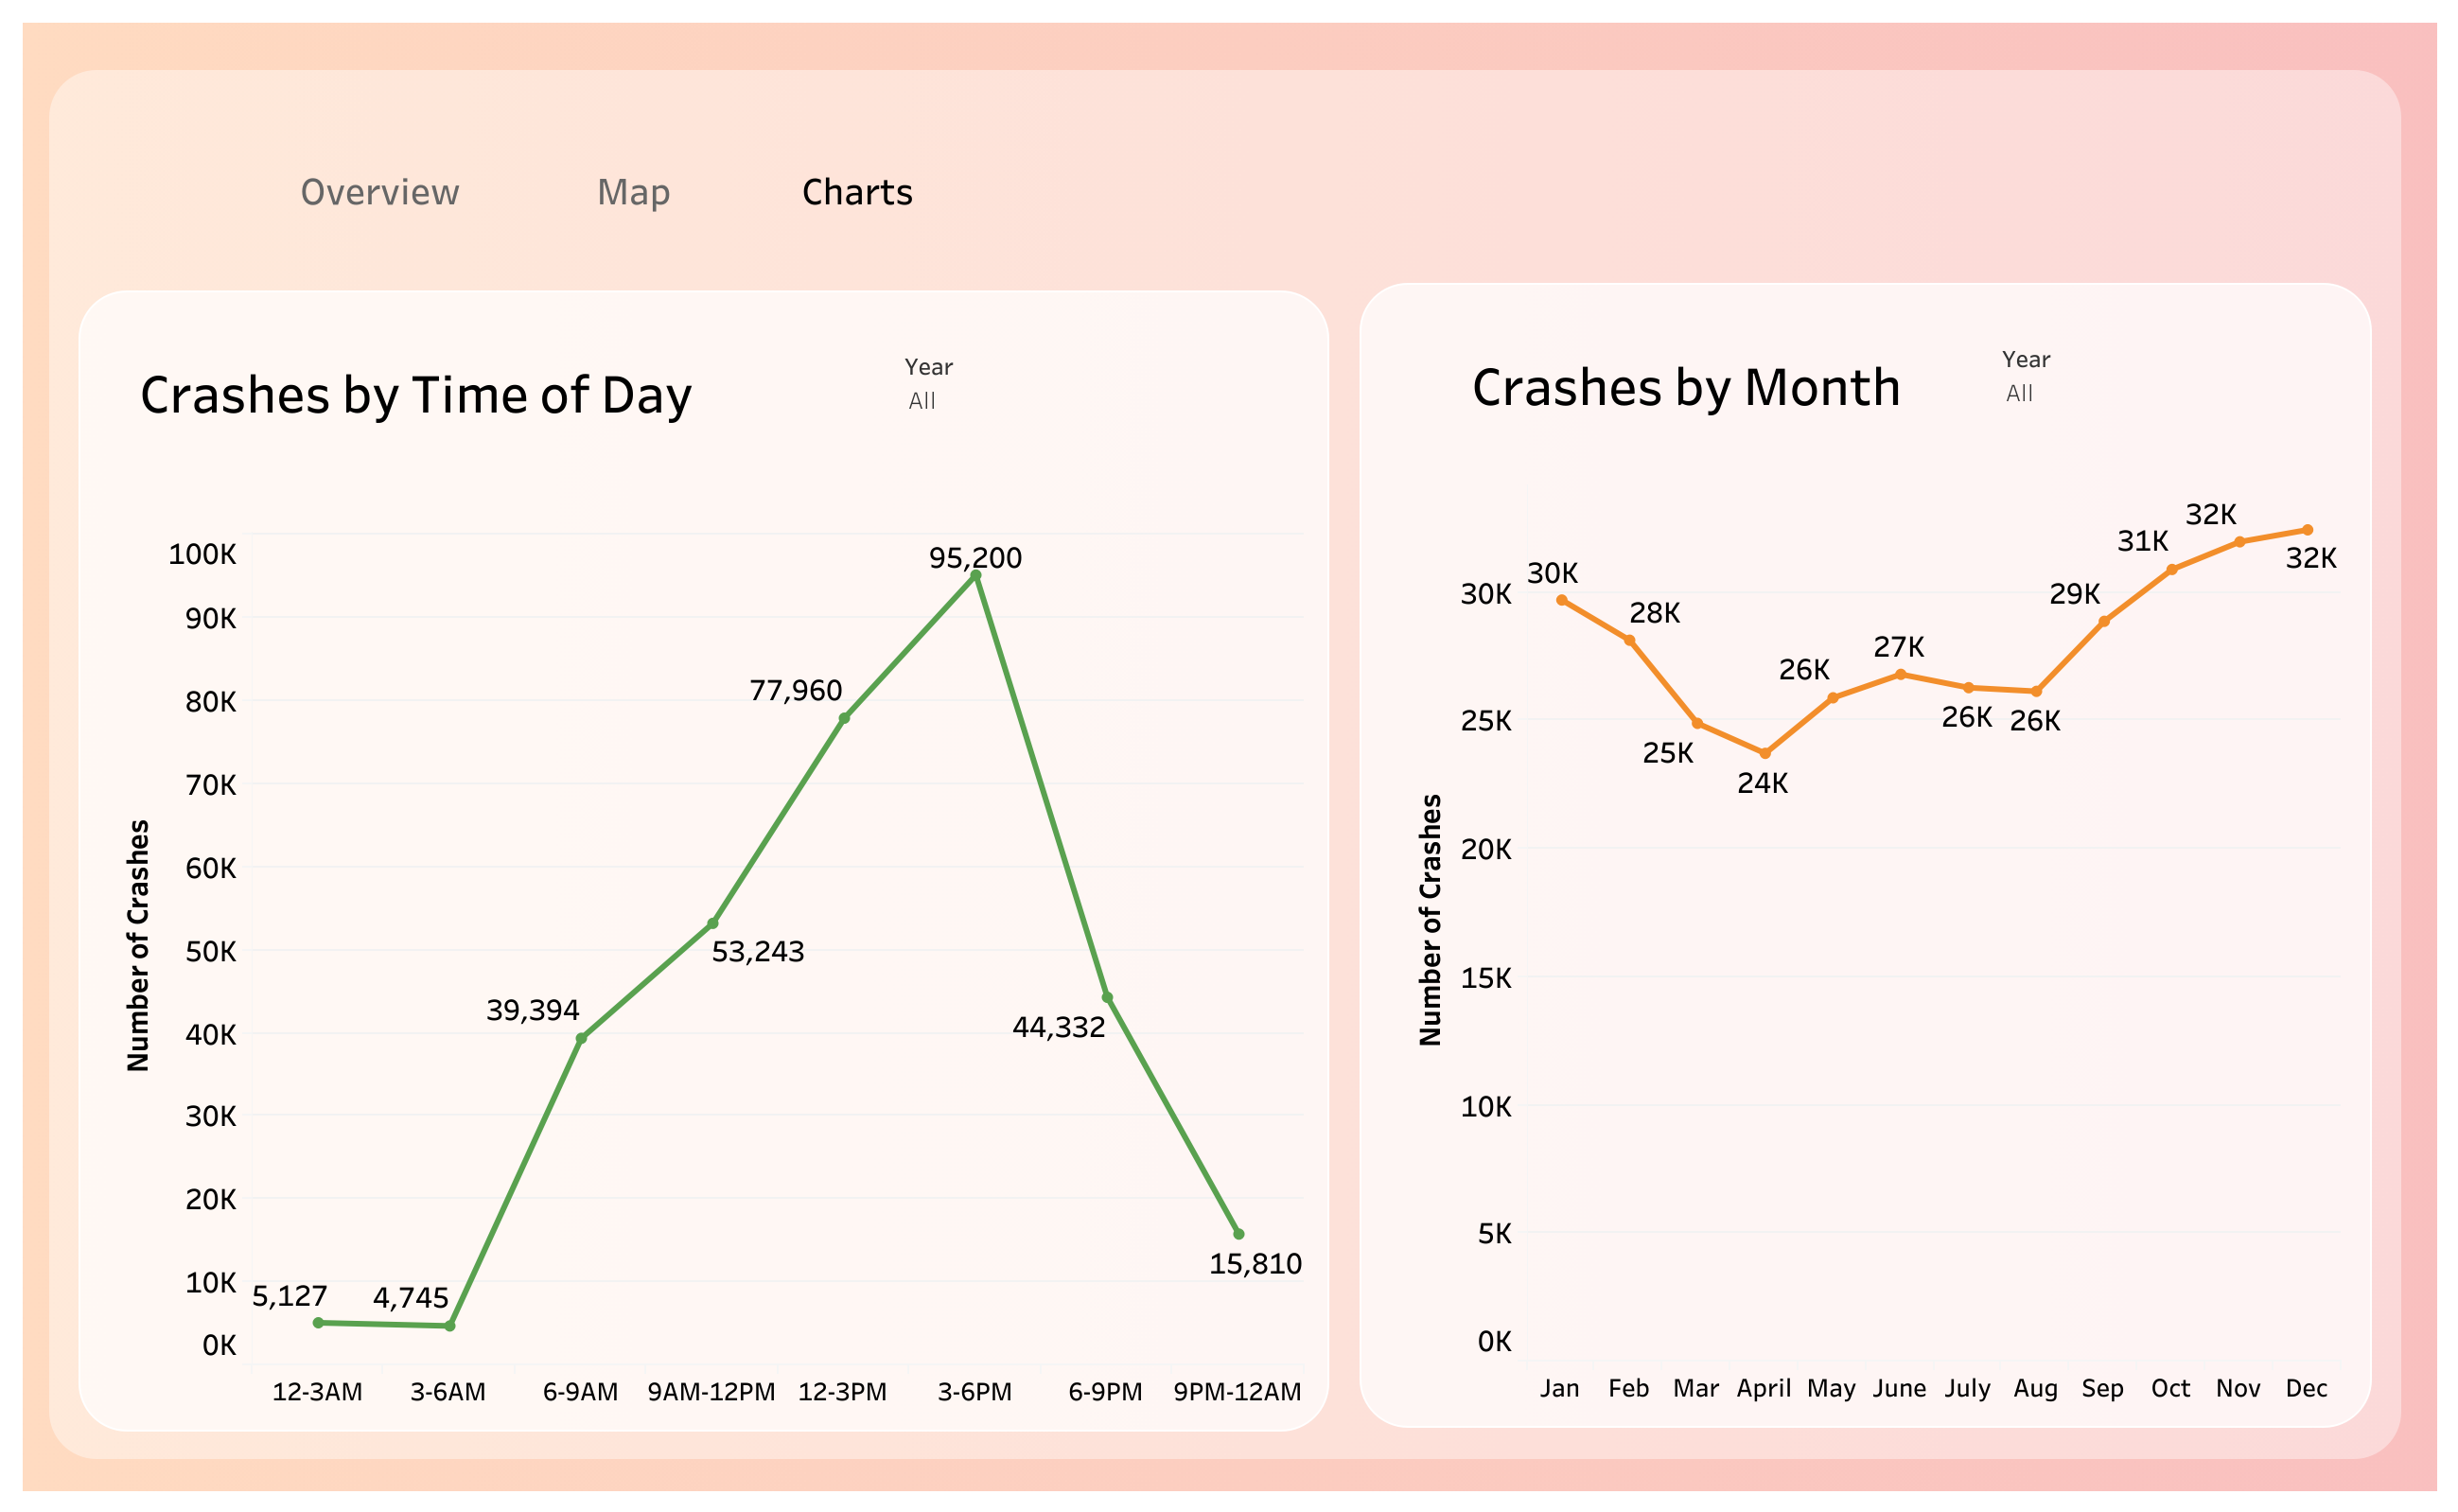

Layout of this report page (visuals, bound fields, positions):
{"tool":"tableau","page":{"name":"Charts","canvas":[1300,800],"ordinal":0},"visuals":[{"type":"worksheet","title":"Sheet 10","mark":"Automatic","box":[0,0,1300,800]},{"type":"image","param":"/Users/paul/Downloads/Orange - Red Background.png","box":[8,8,1284,784]},{"type":"dashboard-object","box":[119,74,164,52]},{"type":"dashboard-object","box":[253,74,164,52]},{"type":"text","box":[421,85,100,30]},{"type":"text","box":[71,172,400,69]},{"type":"filter","title":"Sheet 4","param":"[federated.0c9a6uz0lrnp0j15dlqtx1dh9myq].[none:year:nk]","box":[1058,179,160,65]},{"type":"filter","title":"Sheet 3","param":"[federated.0c9a6uz0lrnp0j15dlqtx1dh9myq].[none:year:nk]","box":[478,183,160,63]},{"type":"text","box":[775,184,233,37]},{"type":"worksheet","title":"Sheet 4","mark":"Line","rows":["total_crashes"],"cols":["month"],"box":[737,256,500,486]},{"type":"worksheet","title":"Sheet 3","mark":"Line","rows":["total_crashes"],"cols":["time_category"],"box":[54,281,635,463]}]}

Visuals, with their boxes in screenshot pixels (x1, y1, x2, y2), scaled from the page's 1300x800 canvas onto the 2458x1512 screenshot:
"Sheet 10" worksheet: locate(0, 0, 2457, 1511)
image: locate(15, 15, 2443, 1497)
dashboard-object: locate(225, 140, 535, 238)
dashboard-object: locate(479, 140, 788, 238)
text: locate(796, 161, 985, 218)
text: locate(134, 325, 890, 455)
"Sheet 4" filter: locate(2000, 339, 2303, 461)
"Sheet 3" filter: locate(904, 346, 1206, 465)
text: locate(1466, 348, 1905, 417)
"Sheet 4" worksheet (Line marks): locate(1394, 483, 2339, 1402)
"Sheet 3" worksheet (Line marks): locate(102, 531, 1303, 1406)
